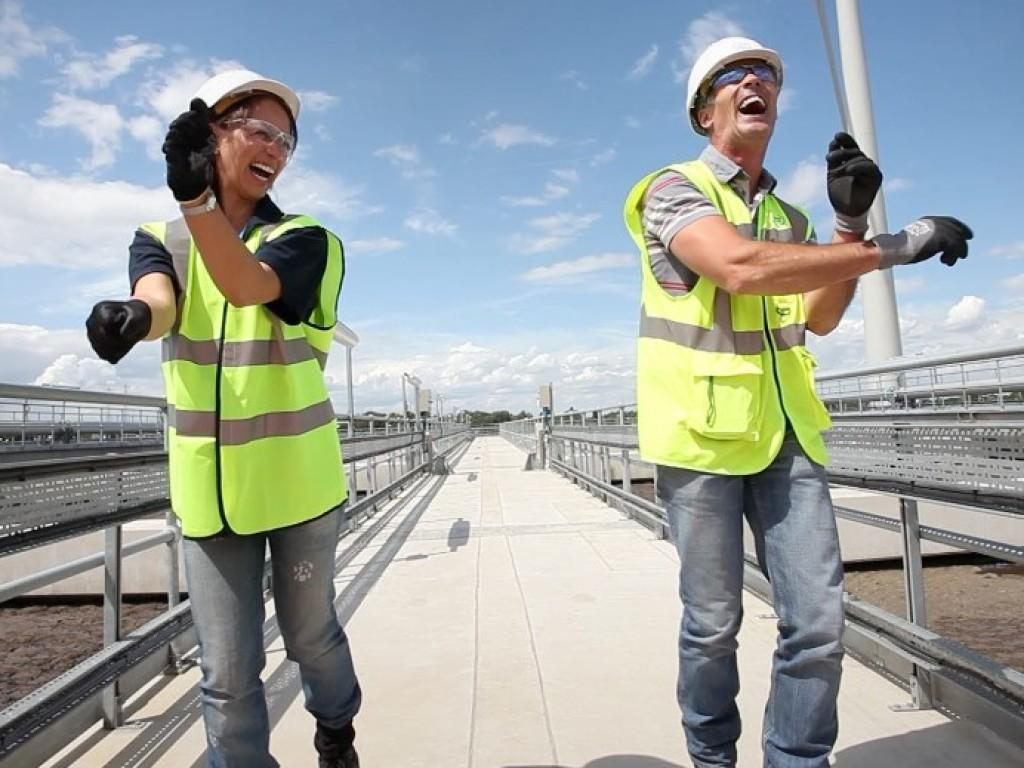helmet: (683, 38, 788, 138), (197, 70, 305, 118)
